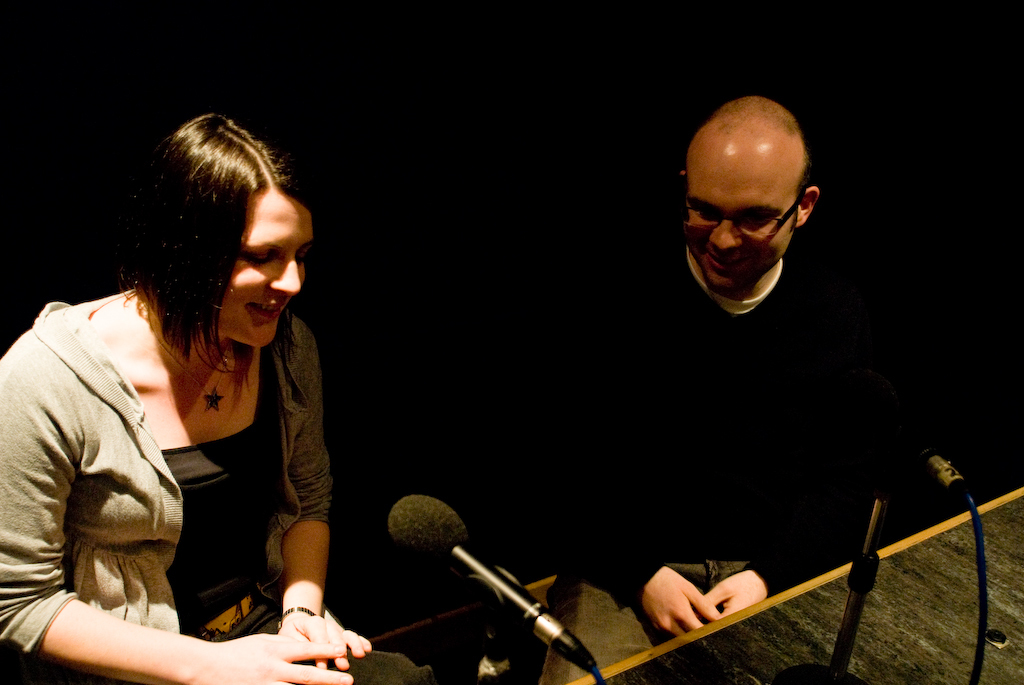Human-face: (215, 187, 315, 350), (689, 166, 794, 293)
